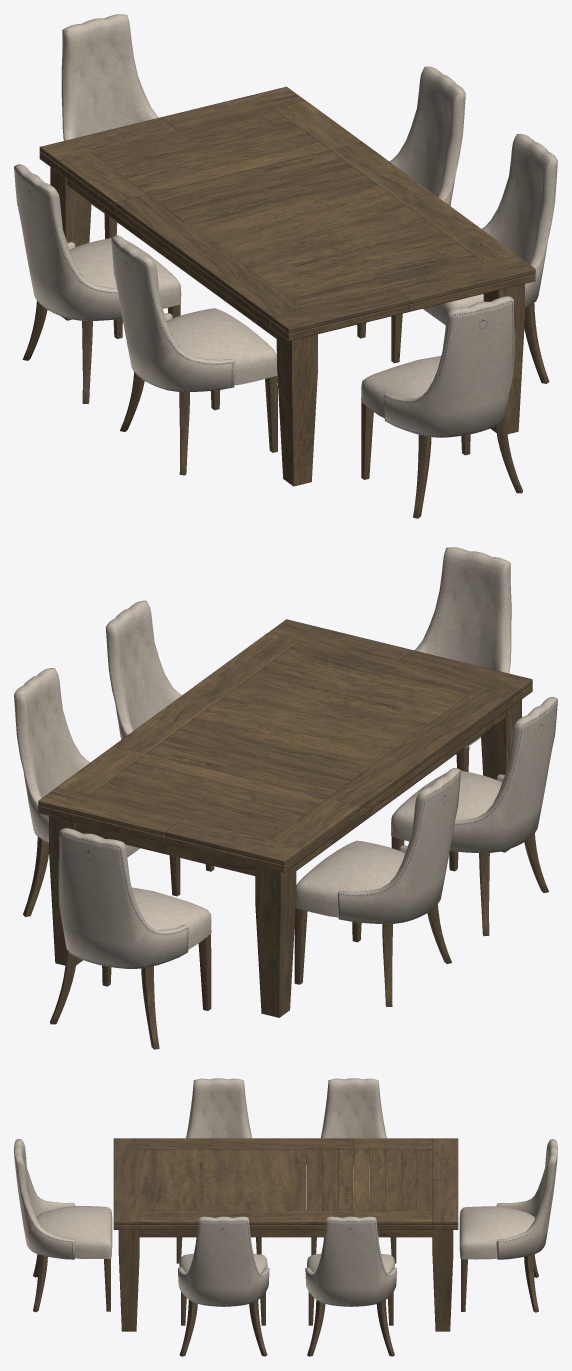
File: dining_table_six.fbx
3 views of the same model, one above another, from view 1: azimuth 30°, elevation 25°; view 2: azimuth 150°, elevation 25°; view 3: azimuth 270°, elevation 25° (orthographic). The views are drawn at different scales.
Visible parts, largest first — view 1: dining_table_six; view 2: dining_table_six; view 3: dining_table_six.
Boxes of the visible parts, x1,y1,x2,y2 form: dining_table_six: (14,14,557,518); dining_table_six: (14,547,557,1049); dining_table_six: (14,1078,557,1356).
Size of the model in its own units: 197 by 94.32 by 319.
2 materials, 2 textured.
